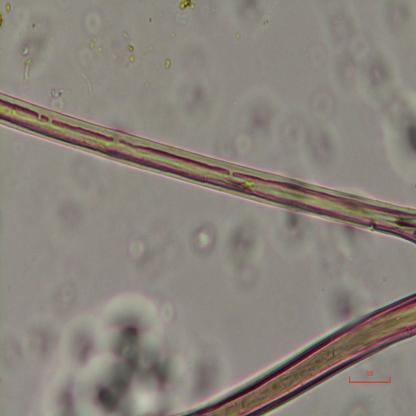Background material: (42, 292, 183, 414), (356, 43, 416, 181), (309, 3, 366, 90), (288, 87, 344, 174), (55, 169, 114, 232), (222, 99, 278, 158), (170, 46, 212, 122), (0, 312, 55, 366), (224, 220, 264, 292), (127, 231, 178, 276), (19, 22, 52, 88), (323, 284, 360, 330), (275, 211, 307, 251), (186, 222, 219, 260), (235, 3, 269, 39), (68, 68, 98, 108), (80, 7, 103, 36), (174, 0, 196, 28), (119, 30, 136, 66), (47, 89, 64, 113), (0, 0, 11, 30), (88, 38, 104, 52), (161, 56, 173, 70)
Microfibre: (0, 94, 416, 247), (182, 292, 416, 415)
